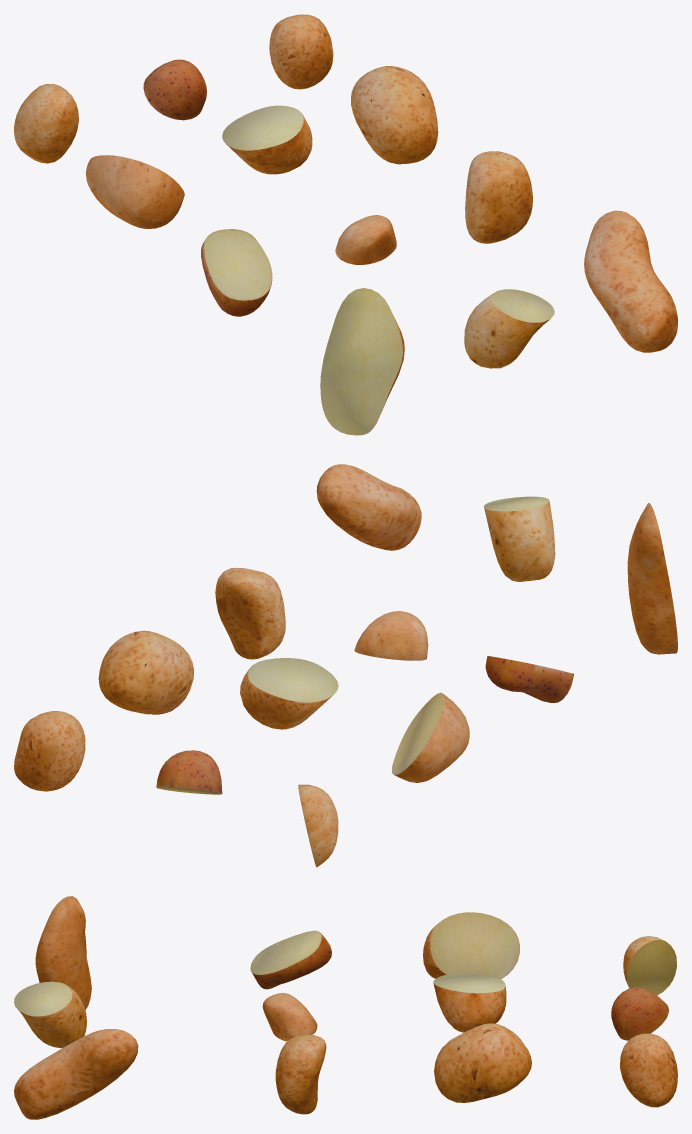
File: patates.gltf
The picture shows the model from 3 angles, top to bottom: view 1: azimuth 30°, elevation 25°; view 2: azimuth 150°, elevation 25°; view 3: azimuth 270°, elevation 25°; orthographic projection. The views are drawn at different scales.
Visible parts, largest first — view 1: patate8, patate2, patate4, patate3, patate6, patate9, patate7, patate10, patate12, patate5, patate11, patate1; view 2: patate4, patate2, patate8, patate10, patate3, patate9, patate5, patate6, patate1, patate7, patate11, patate12; view 3: patate2, patate4, patate6, patate8, patate9, patate10, patate5, patate3, patate7, patate12, patate11, patate1.
Boxes of the visible parts, <box> form: patate8: <box>320,288,404,435</box>; patate2: <box>584,210,677,352</box>; patate4: <box>351,66,438,164</box>; patate3: <box>465,151,532,243</box>; patate6: <box>85,155,184,228</box>; patate9: <box>464,289,554,368</box>; patate7: <box>201,229,272,316</box>; patate10: <box>222,105,312,174</box>; patate12: <box>14,84,78,163</box>; patate5: <box>269,14,333,89</box>; patate11: <box>143,59,206,120</box>; patate1: <box>335,215,396,264</box>; patate4: <box>98,630,193,714</box>; patate2: <box>316,464,421,550</box>; patate8: <box>627,503,677,654</box>; patate10: <box>240,658,338,729</box>; patate3: <box>215,567,285,659</box>; patate9: <box>484,496,555,581</box>; patate5: <box>14,711,85,791</box>; patate6: <box>391,692,469,782</box>; patate1: <box>354,611,428,660</box>; patate7: <box>485,656,574,702</box>; patate11: <box>156,750,222,794</box>; patate12: <box>298,784,338,867</box>; patate2: <box>14,1029,138,1119</box>; patate4: <box>434,1023,531,1102</box>; patate6: <box>423,912,519,978</box>; patate8: <box>35,896,91,1009</box>; patate9: <box>14,981,86,1048</box>; patate10: <box>433,973,506,1032</box>; patate5: <box>620,1033,677,1107</box>; patate3: <box>275,1034,326,1114</box>; patate7: <box>250,930,331,989</box>; patate12: <box>623,936,676,995</box>; patate11: <box>611,987,668,1040</box>; patate1: <box>262,993,317,1041</box>.
Size of the model in its own units: 0.6521 by 0.2637 by 1.25.
1 material, 1 textured.
